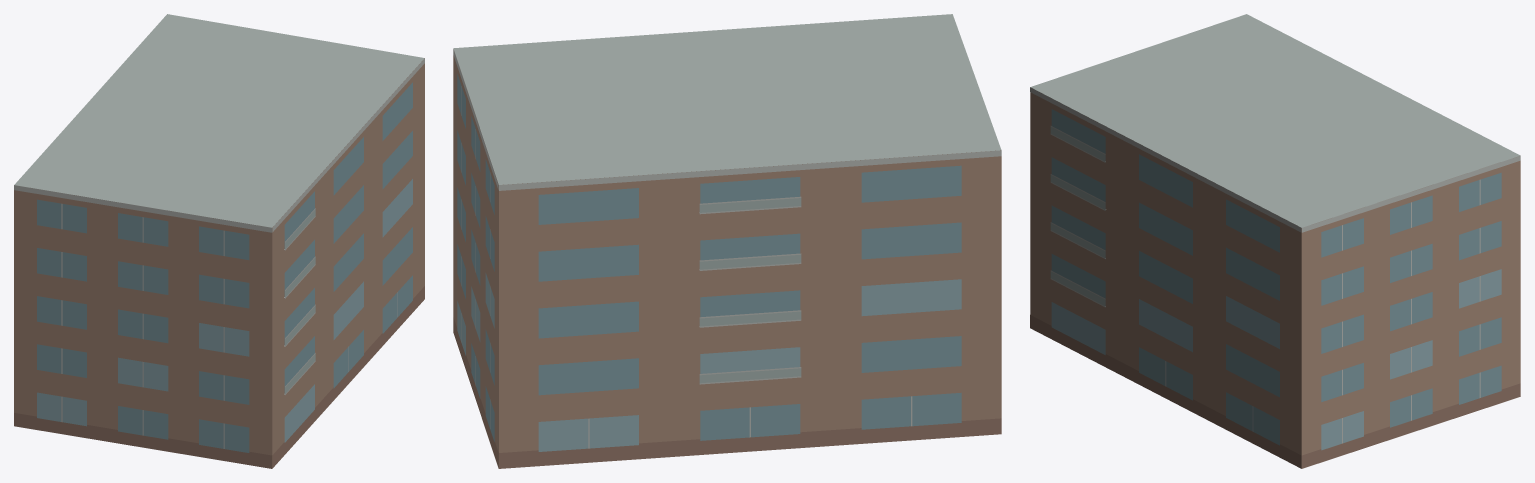
Rendered from survey-upis-32822563.glb.
The picture shows the model from 3 angles, left to right: view 1: azimuth 30°, elevation 25°; view 2: azimuth 150°, elevation 25°; view 3: azimuth 270°, elevation 25°; orthographic projection. The views are drawn at different scales.
Visible parts, largest first — view 1: survey-upis-32822563.tmp; view 2: survey-upis-32822563.tmp; view 3: survey-upis-32822563.tmp.
Part boxes in pixels (<box>): survey-upis-32822563.tmp: <box>14,14,424,468</box>; survey-upis-32822563.tmp: <box>453,14,1001,468</box>; survey-upis-32822563.tmp: <box>1030,14,1520,468</box>.
Bounding box in the file's own units: 22.26 × 11.7 × 21.58.
